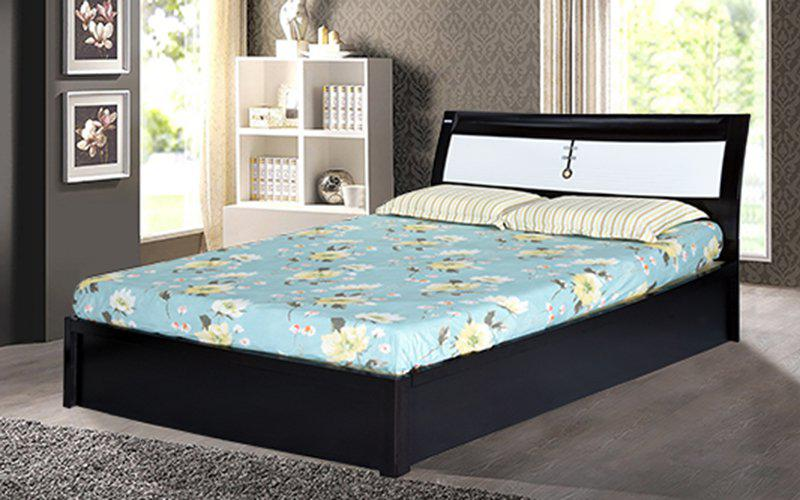bed: (56, 101, 770, 485)
